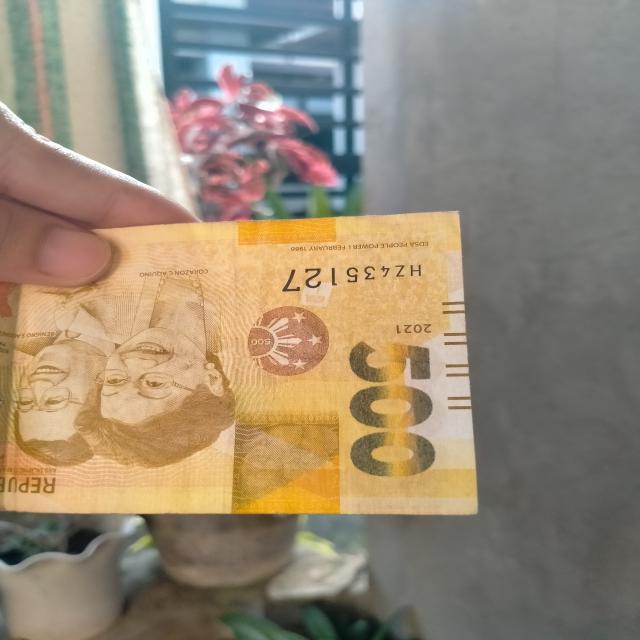concealed_value: (226, 410, 343, 511)
optically_variable_device: (225, 293, 337, 392)
value: (335, 335, 442, 483)
